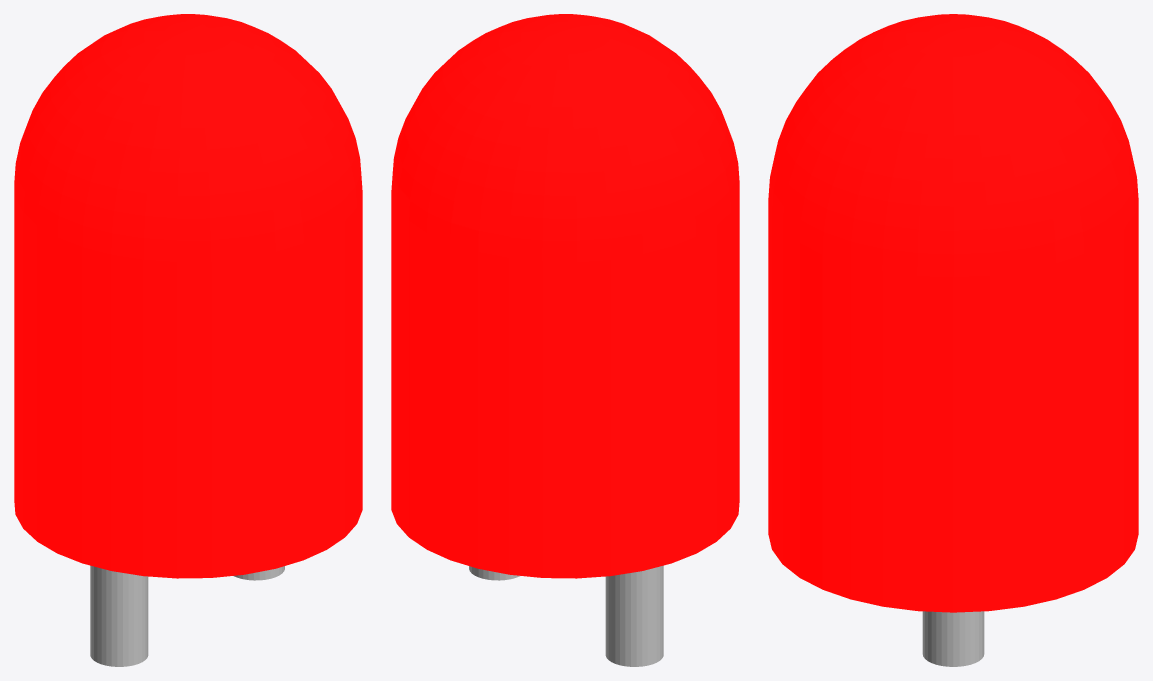
File: Red_Cylander_LED.fbx
3 renders of one model, left to right at view 1: azimuth 30°, elevation 25°; view 2: azimuth 150°, elevation 25°; view 3: azimuth 270°, elevation 25°, orthographic. The views are drawn at different scales.
Visible parts, largest first — view 1: Cylinder, Lead_Pos; view 2: Cylinder, Lead_Pos; view 3: Cylinder, Lead_Neg.
Boxes of the visible parts, left/top/right/bottom form: Cylinder: left=14, top=14, right=362, bottom=578; Lead_Pos: left=90, top=565, right=148, bottom=666; Cylinder: left=391, top=14, right=739, bottom=578; Lead_Pos: left=605, top=565, right=663, bottom=666; Cylinder: left=768, top=14, right=1138, bottom=612; Lead_Neg: left=922, top=611, right=984, bottom=666.
Size of the model in its own units: 0.006 by 0.0115 by 0.006.
